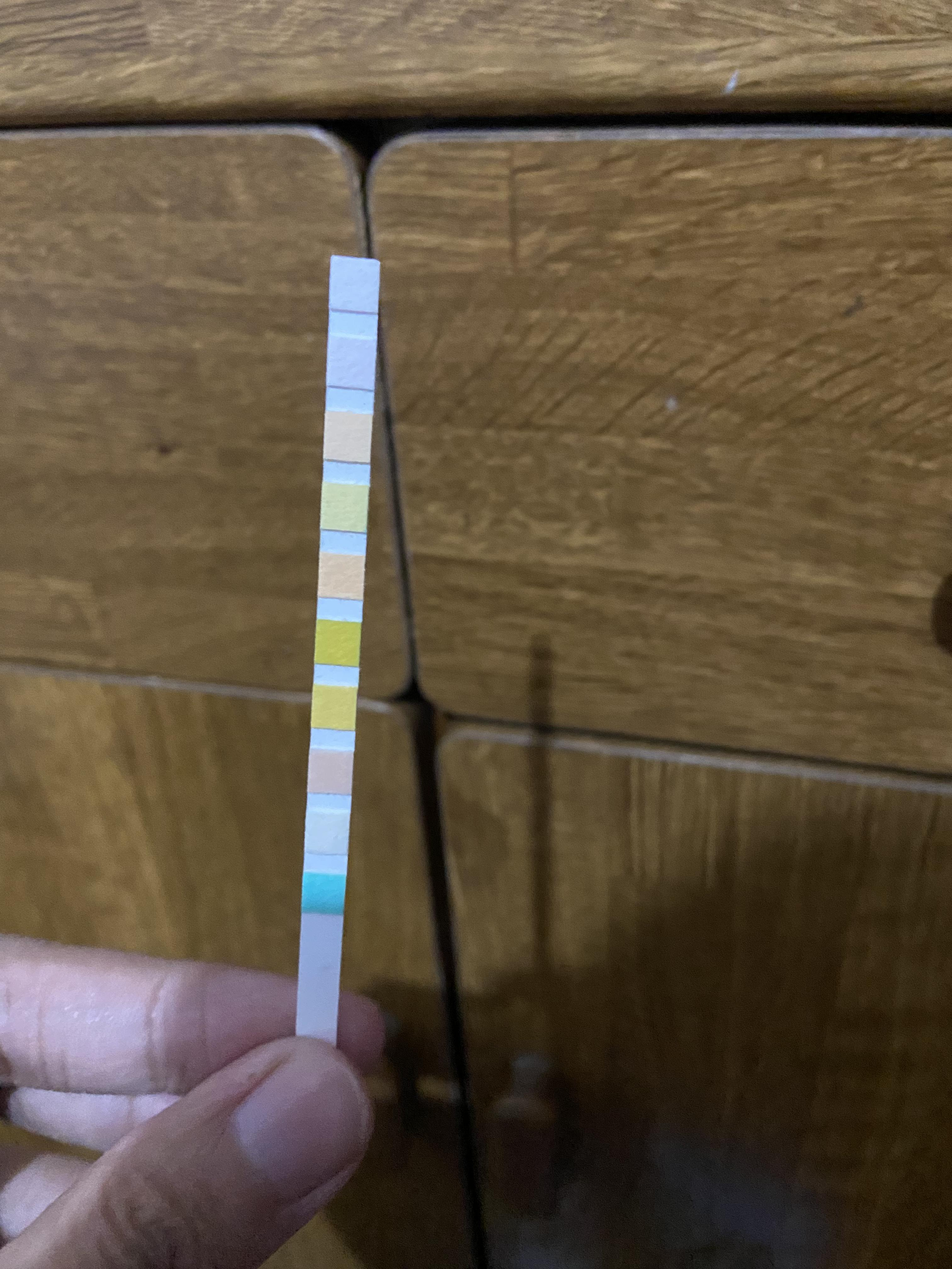Bilirubin: (308, 813, 349, 852)
Blood: (318, 622, 359, 663)
Glucose: (304, 875, 344, 912)
Ketone: (312, 752, 352, 792)
Leukocytes: (332, 261, 377, 308)
Nitrite: (330, 338, 373, 387)
Protein: (323, 485, 368, 527)
SpGravity: (315, 686, 355, 726)
Urobilinogen: (326, 415, 372, 459)
pH: (322, 559, 363, 596)
strip: (297, 255, 380, 1036)
